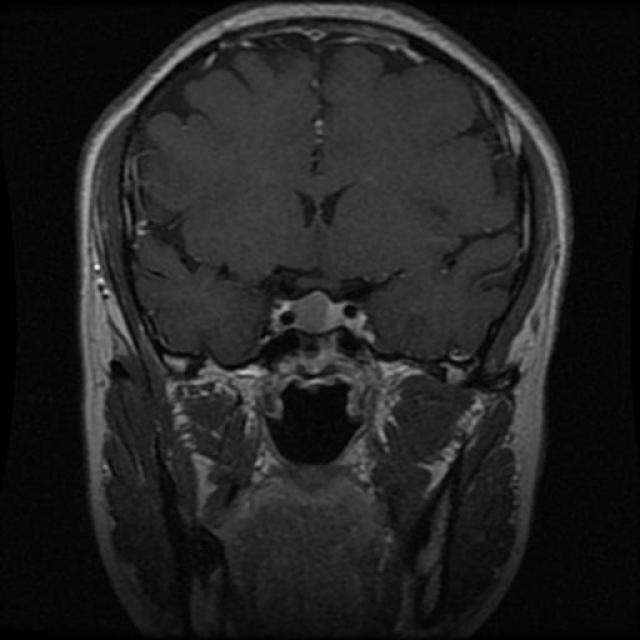pituitary: (250, 264, 378, 377)
